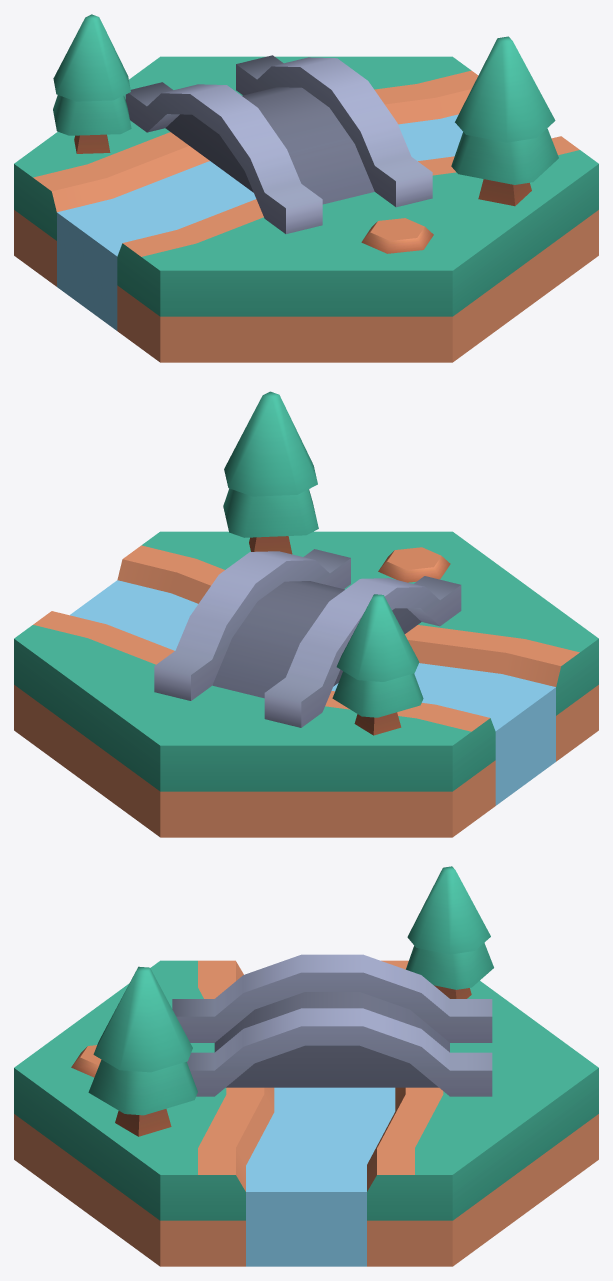
Rendered from kenney-hexagon-bridge.glb.
3 renders of one model, top to bottom at view 1: azimuth 30°, elevation 25°; view 2: azimuth 150°, elevation 25°; view 3: azimuth 270°, elevation 25°, orthographic.
Visible parts, largest first — view 1: bridge; view 2: bridge; view 3: bridge.
Part boxes in pixels (x1,y1,x2,y2): bridge: (14,14,598,362); bridge: (14,391,598,837); bridge: (14,866,598,1266).
Size of the model in its own units: 1 by 0.5382 by 1.15.
Materials: 1 (1 with a texture image).
